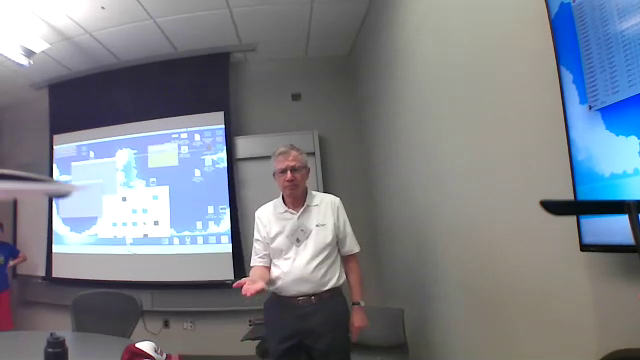land: (230, 273, 275, 305)
